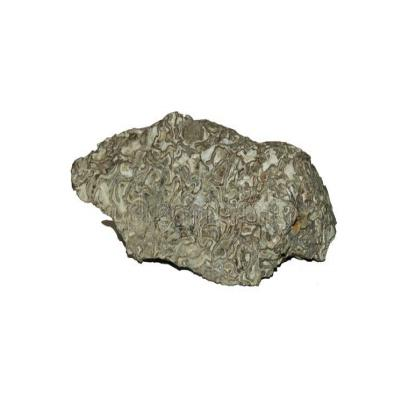Sedimentary_Limestone: (64, 100, 350, 298)
